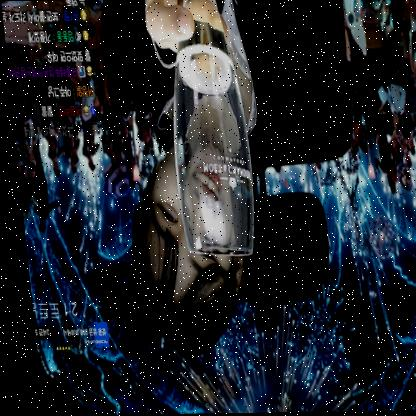streamer: (93, 0, 370, 356)
